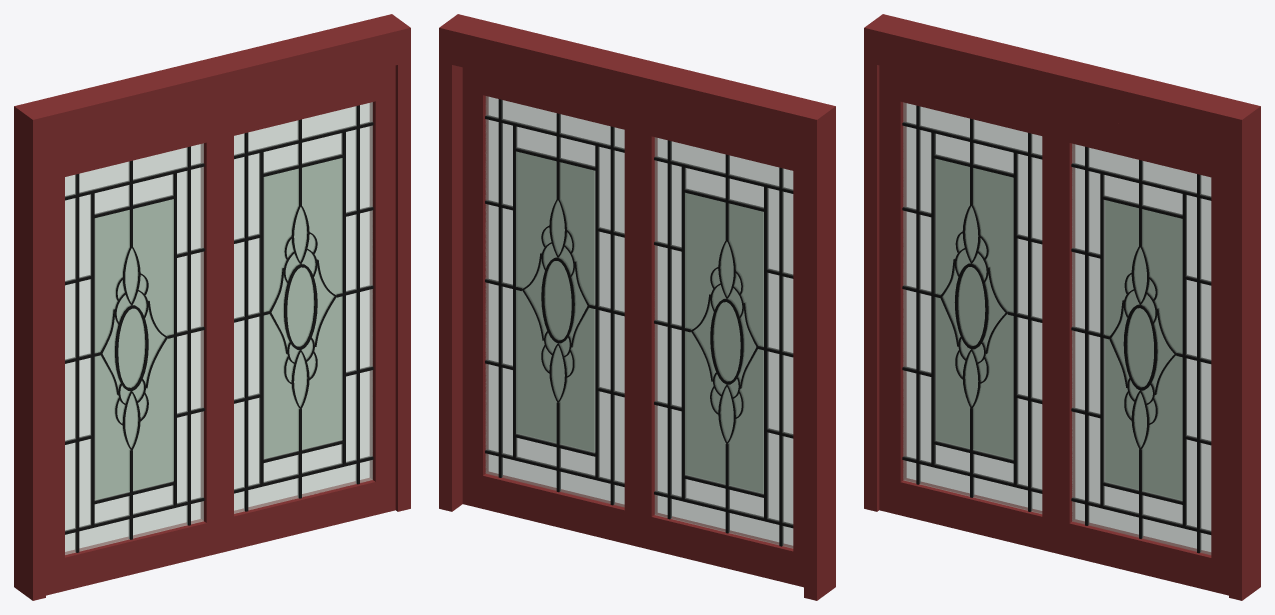
The picture shows the model from 3 angles, left to right: view 1: azimuth 30°, elevation 25°; view 2: azimuth 150°, elevation 25°; view 3: azimuth 330°, elevation 25°; orthographic projection.
Parts seen in each view (by area): view 1: Rectangle0; view 2: Rectangle0; view 3: Rectangle0.
Boxes of the visible parts, <box> form: Rectangle0: <box>14,14,410,600</box>; Rectangle0: <box>439,14,835,600</box>; Rectangle0: <box>864,14,1260,600</box>.
Bounding box in the file's own units: 47181 × 57389 × 4064.
